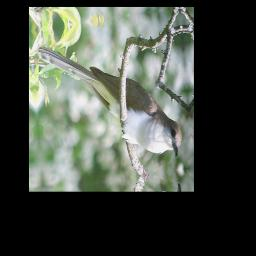Cuckoo: (35, 23, 184, 178)
